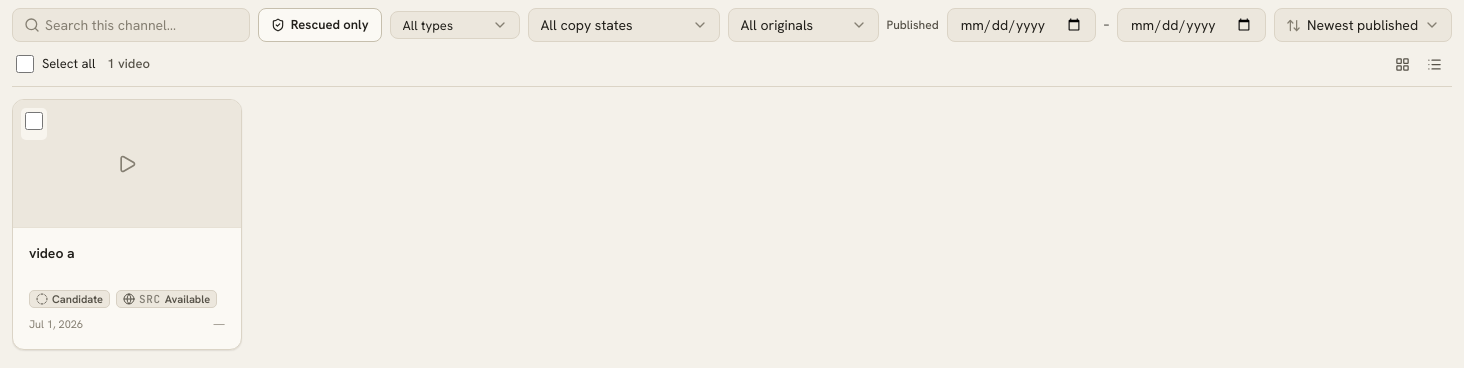
VideosBrowser — views (S4 library grid/list toggle) › defaults to the first entry in views and switches on click
Expected: the element with class "tv-videocard--grid" is shown, [12, 99, 242, 350]
Click the button named "List" at (1434,64), box [1420, 50, 1448, 78]
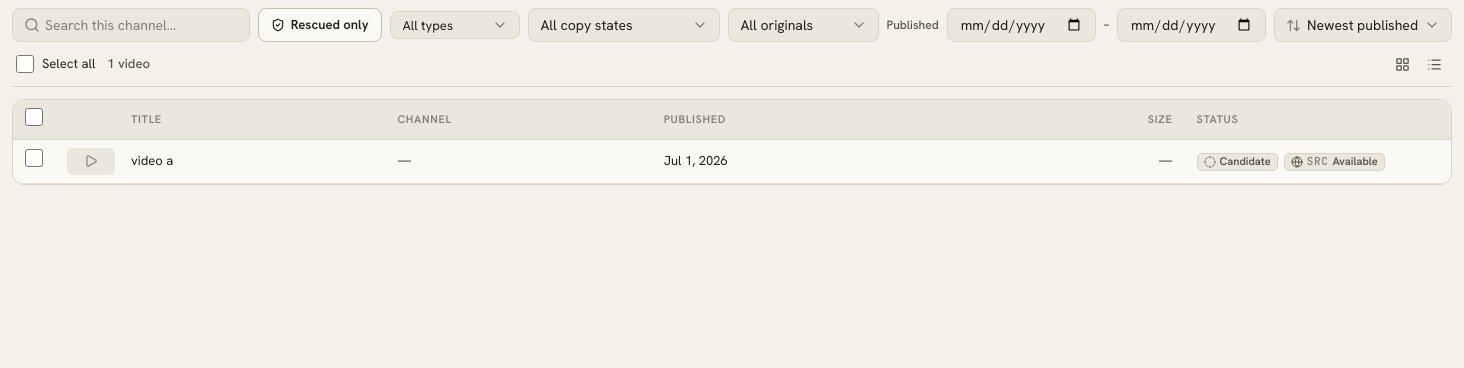
Expected: the table with class "tv-table" is shown, [13, 100, 1451, 184]
Expected: the element with class "tv-videocard--grid" is gone
